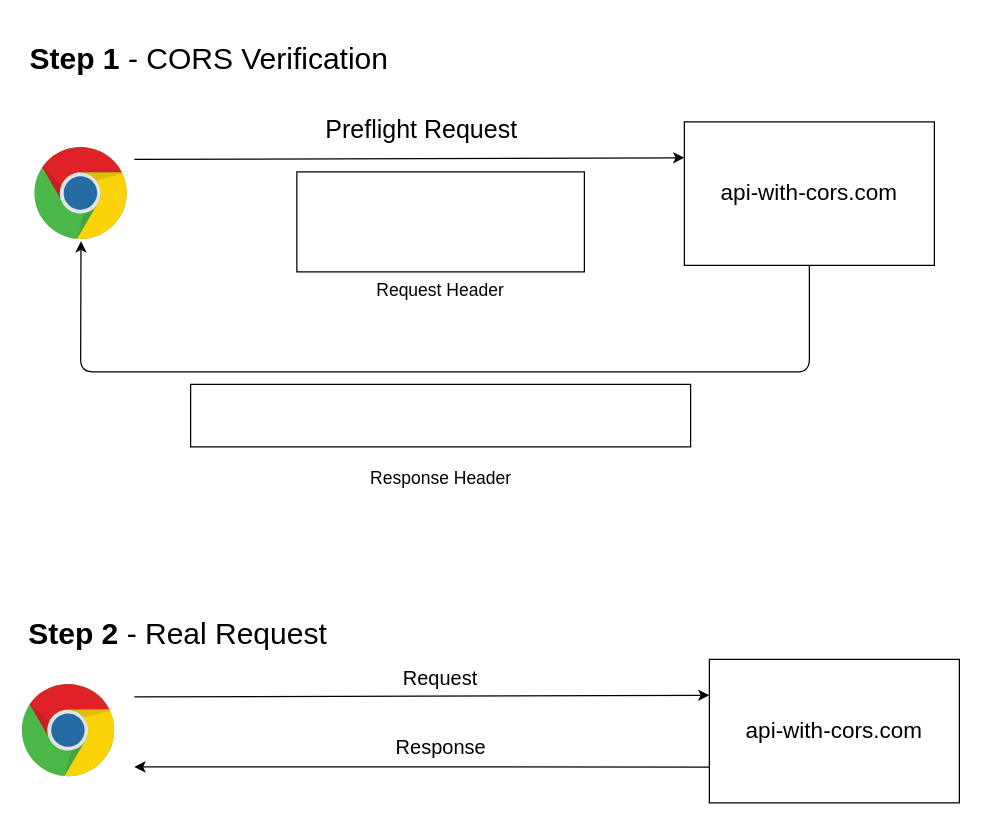
The diagram is 981 pixels wide and 825 high, and some of its shapes have lost their labels. Here are the shapes that lost their labels. From the top down, the box of each, then its label:
(296, 171, 584, 272): OPTIONS /api/users Origin: https://site-trusted.com
(189, 383, 691, 447): Access-Control-Allow-Origin: https://site-trusted.com
